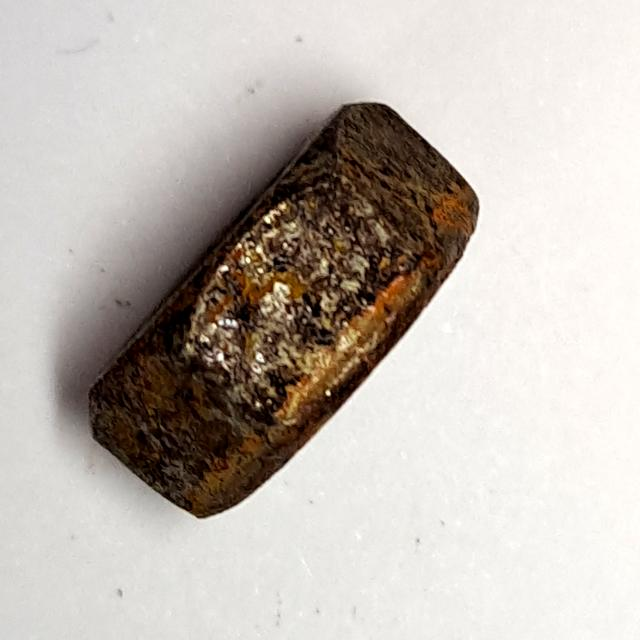Side_Rust: (77, 92, 496, 533)
